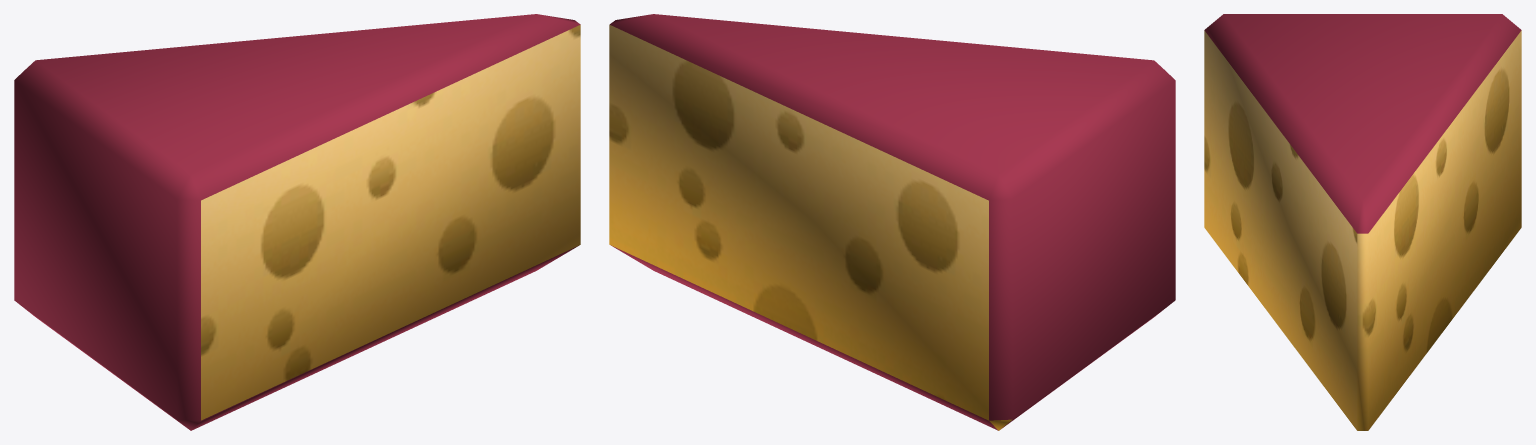
File: HighQualityCheese.fbx
3 renders of one model, left to right at view 1: azimuth 30°, elevation 25°; view 2: azimuth 150°, elevation 25°; view 3: azimuth 270°, elevation 25°, orthographic. The views are drawn at different scales.
Visible parts, largest first — view 1: Cheese; view 2: Cheese; view 3: Cheese.
Part boxes in pixels (<box>): Cheese: <box>14,14,580,430</box>; Cheese: <box>609,14,1175,430</box>; Cheese: <box>1204,14,1521,430</box>.
Size of the model in its own units: 0.7815 by 0.3982 by 0.4974.
Materials: 1 (1 with a texture image).
